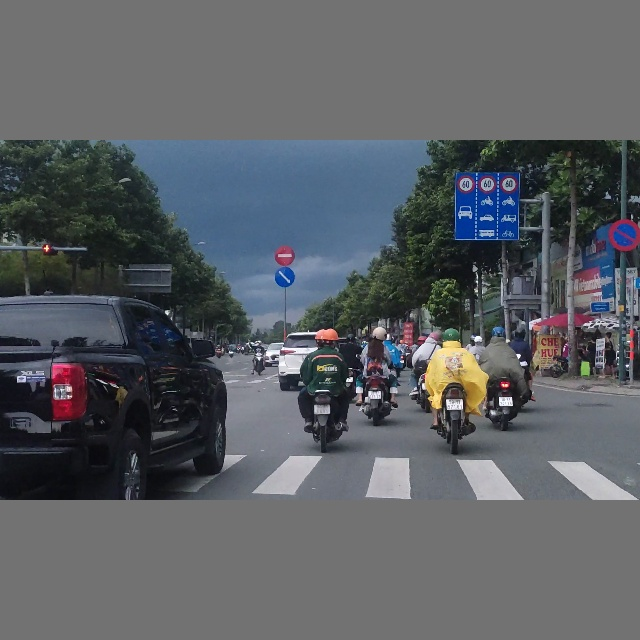P.102: (274, 245, 295, 266)
P.131a: (608, 218, 640, 252)
R.302a: (274, 267, 295, 287)
R.415a: (455, 173, 519, 240)
